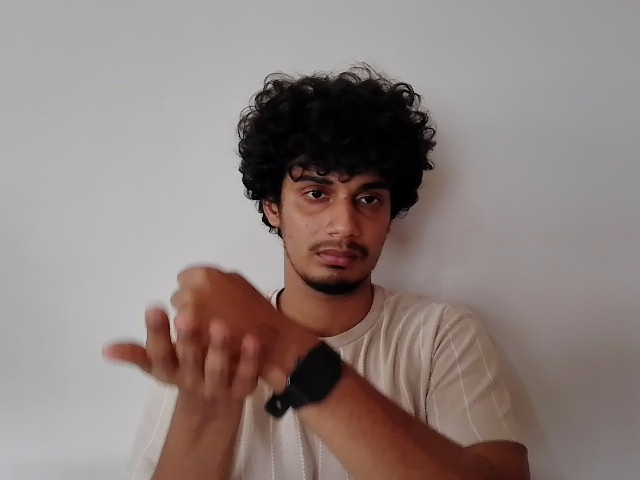help: (101, 265, 287, 401)
